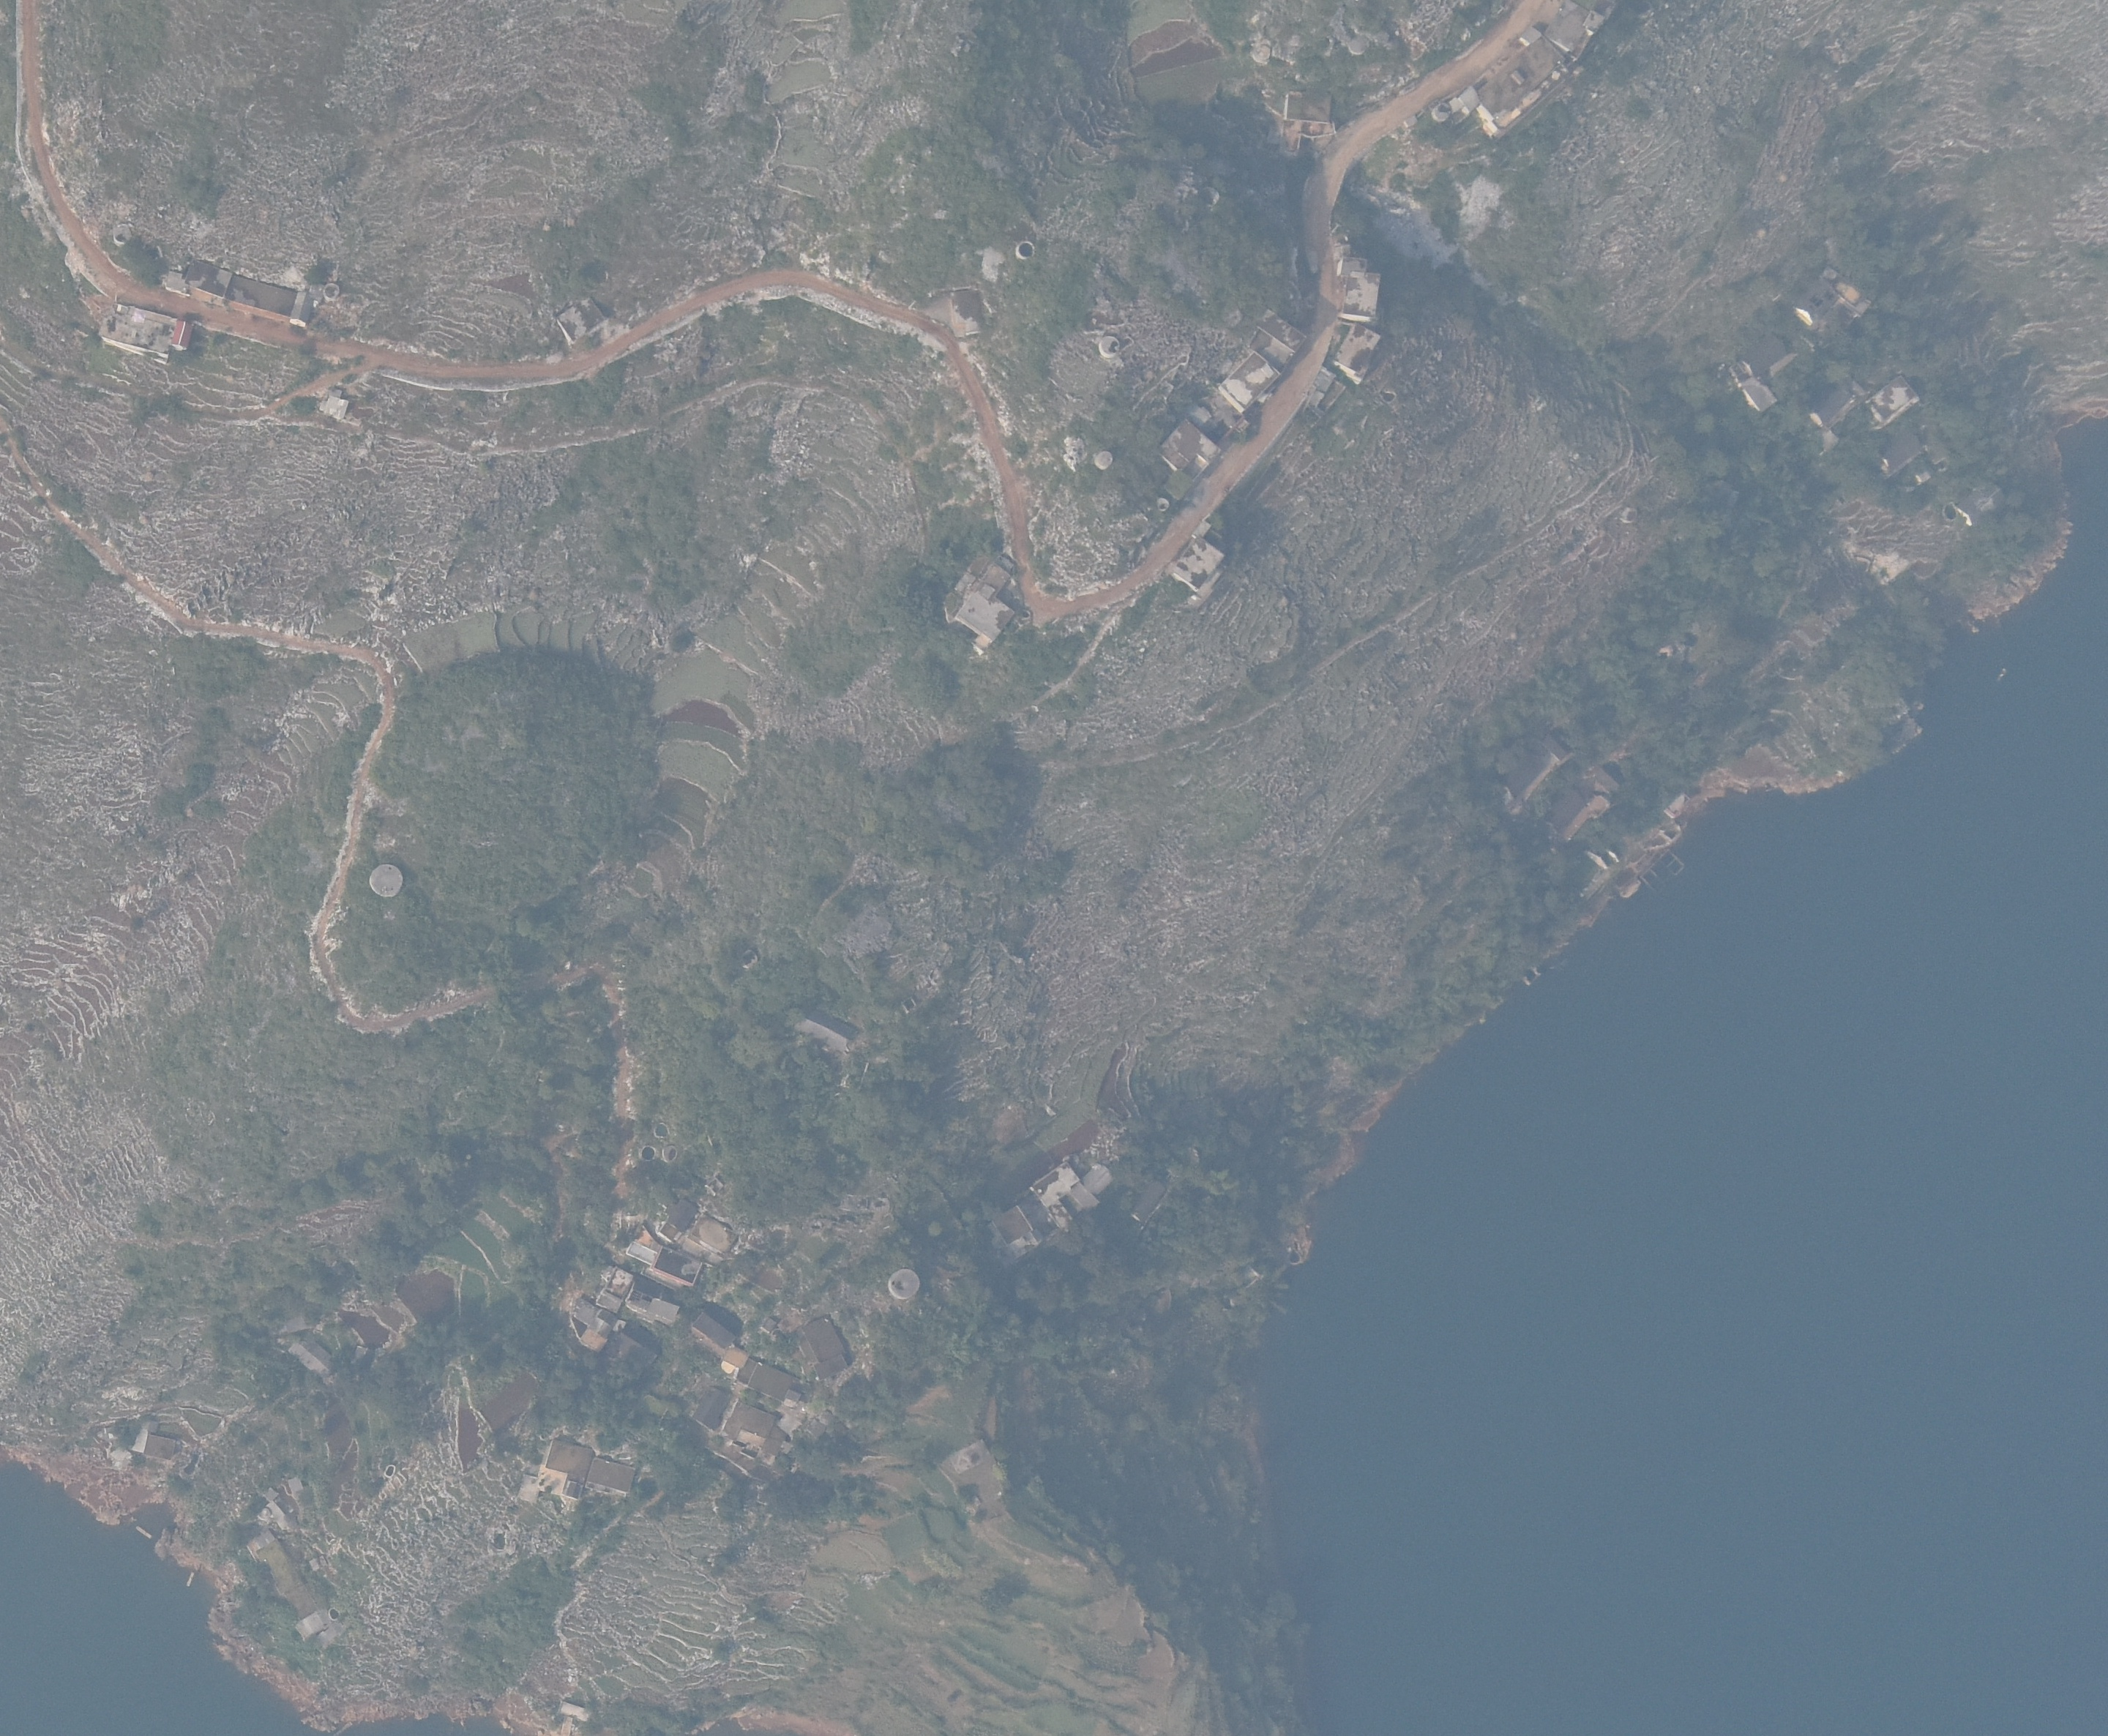building: (931, 550, 1033, 659), (165, 258, 318, 328), (1476, 39, 1566, 130), (1488, 739, 1585, 790), (95, 304, 179, 363), (1222, 348, 1287, 418), (1328, 321, 1385, 386), (1167, 536, 1236, 588), (1334, 251, 1384, 322), (1157, 419, 1222, 473), (1867, 376, 1927, 422), (1876, 430, 1933, 479), (1804, 386, 1859, 433), (1791, 276, 1839, 330), (1737, 328, 1793, 373), (1542, 792, 1596, 838), (553, 302, 611, 344), (1550, 6, 1599, 53), (322, 391, 350, 424), (171, 318, 193, 353)
cultivation-mesh-cage: (1632, 841, 1683, 894)
well: (367, 860, 403, 897), (1009, 238, 1044, 261), (1095, 334, 1125, 361), (1092, 449, 1117, 471), (1345, 36, 1372, 55), (1249, 43, 1273, 63), (1432, 100, 1451, 123), (1154, 495, 1173, 511)
